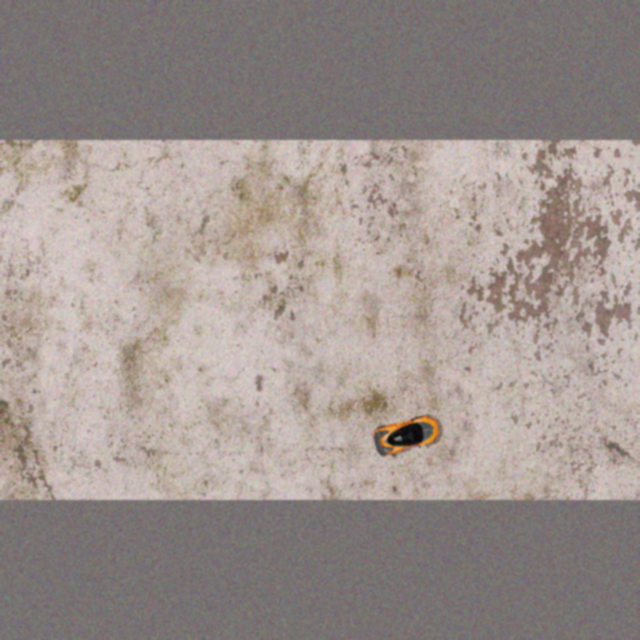car: (370, 411, 445, 460)
